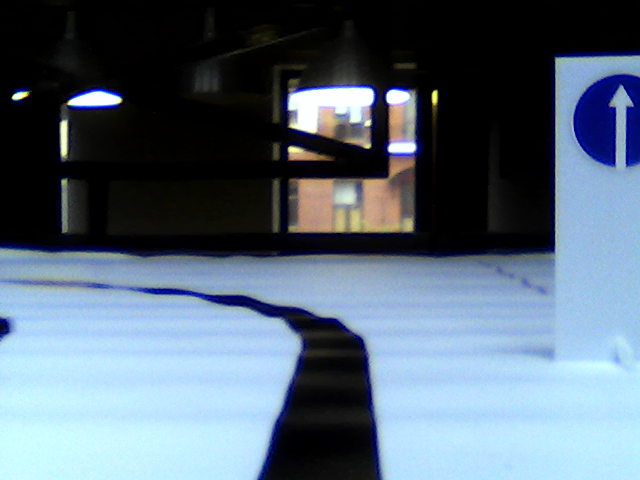forw: (570, 70, 640, 169)
